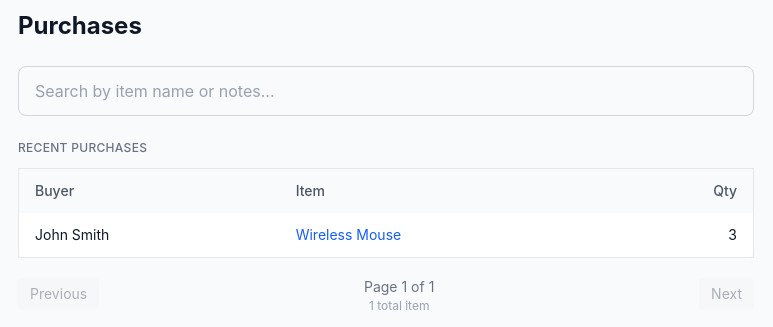
PurchasesPage › shows search results after typing
This screenshot has width=773, height=327.
Type "John" into the field with placeholder "Search by item name or notes..." at point(386, 91), box [18,66,754,116]
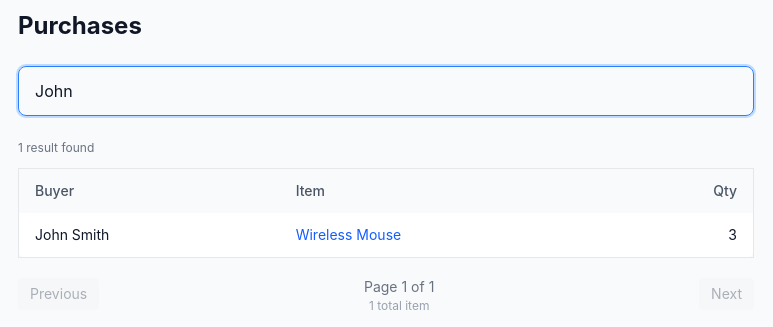
Expected: the text "John Smith" is shown, [18,213,280,258]
Expected: the text "1 result found" is shown, [18,140,94,155]
